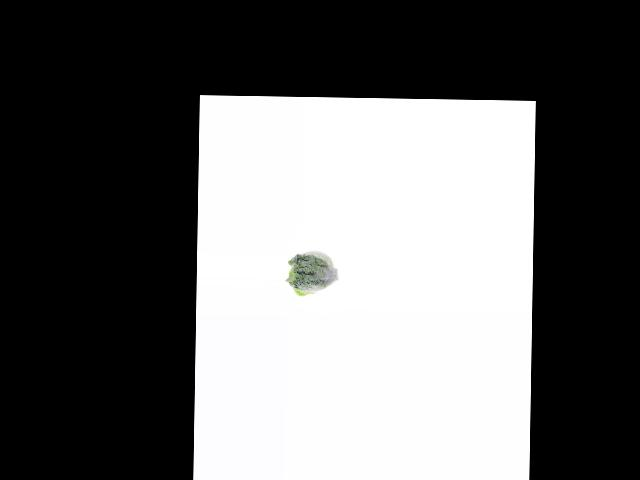lettuce: (286, 249, 338, 299)
